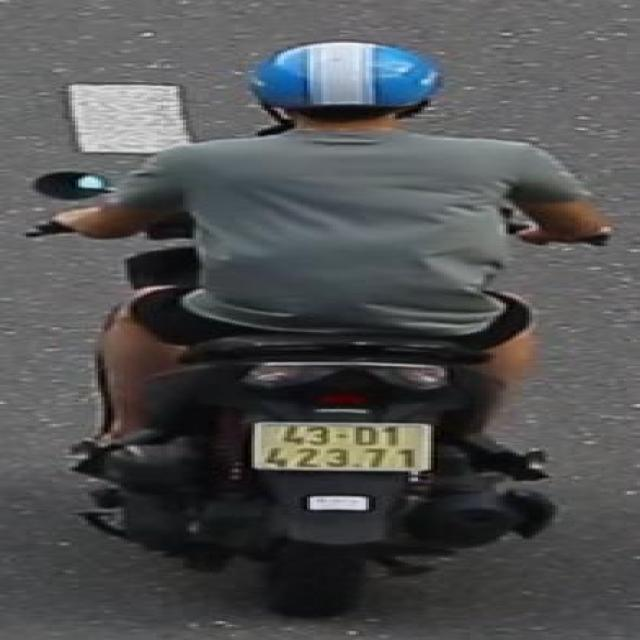LP: (245, 415, 441, 475)
helmet: (245, 37, 444, 144)
